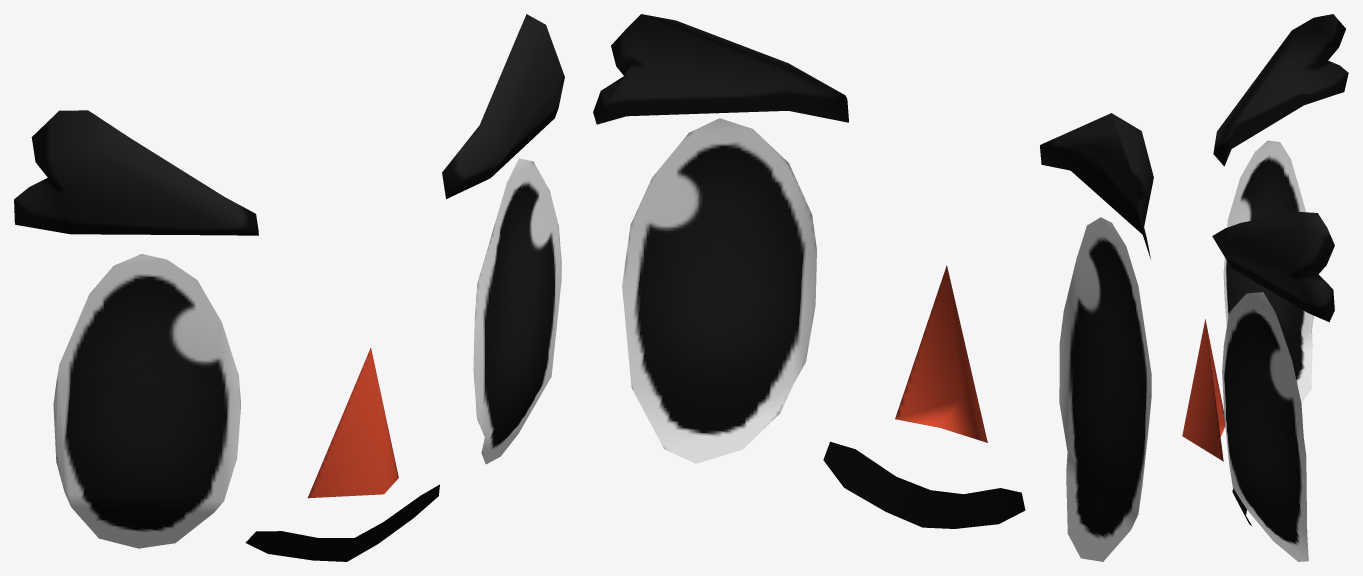
3 renders of one model, left to right at view 1: azimuth 30°, elevation 25°; view 2: azimuth 150°, elevation 25°; view 3: azimuth 270°, elevation 25°, orthographic. The views are drawn at different scales.
Parts seen in each view (by area): view 1: SM_Face_00; view 2: SM_Face_00; view 3: SM_Face_00.
Boxes of the visible parts, x1=… form: SM_Face_00: x1=14, y1=14, x2=564, y2=561; SM_Face_00: x1=593, y1=14, x2=1153, y2=561; SM_Face_00: x1=1182, y1=14, x2=1348, y2=561.
Bounding box in the file's own units: 0.3036 × 0.258 × 0.0954.
Materials: 1 (1 with a texture image).
